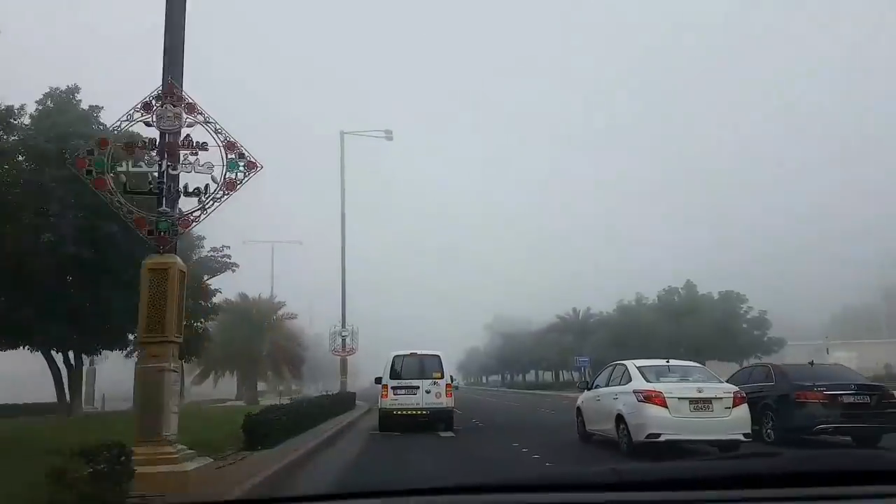car: (576, 354, 754, 458), (702, 358, 894, 449), (373, 350, 457, 432)
